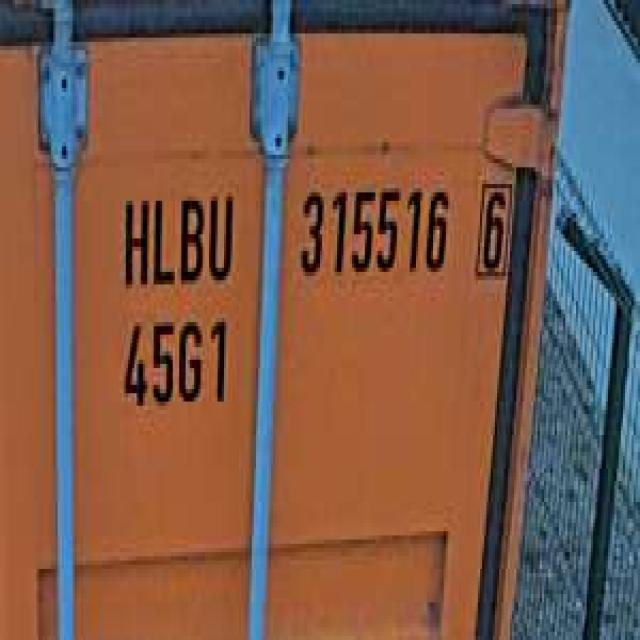dv: (469, 168, 514, 284)
owner: (117, 175, 237, 292)
serial: (292, 167, 452, 289)
size: (115, 306, 235, 418)
